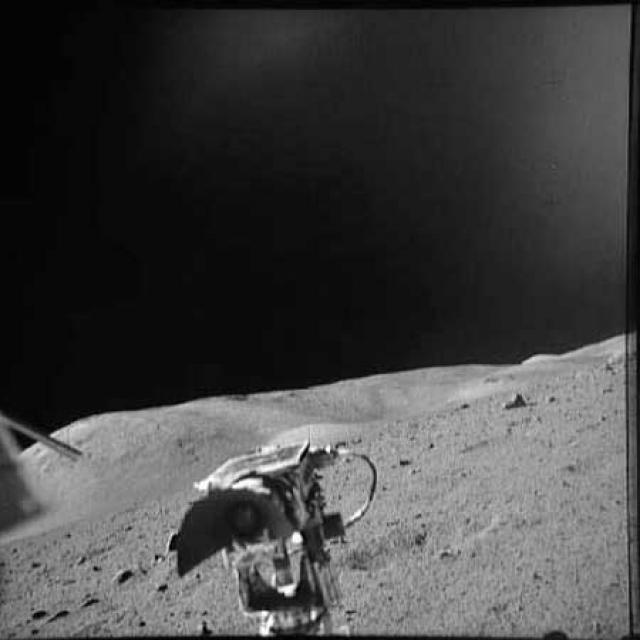artifact: (169, 431, 382, 634), (2, 407, 79, 469)
crater: (354, 508, 509, 572)
rock: (497, 387, 530, 415)
